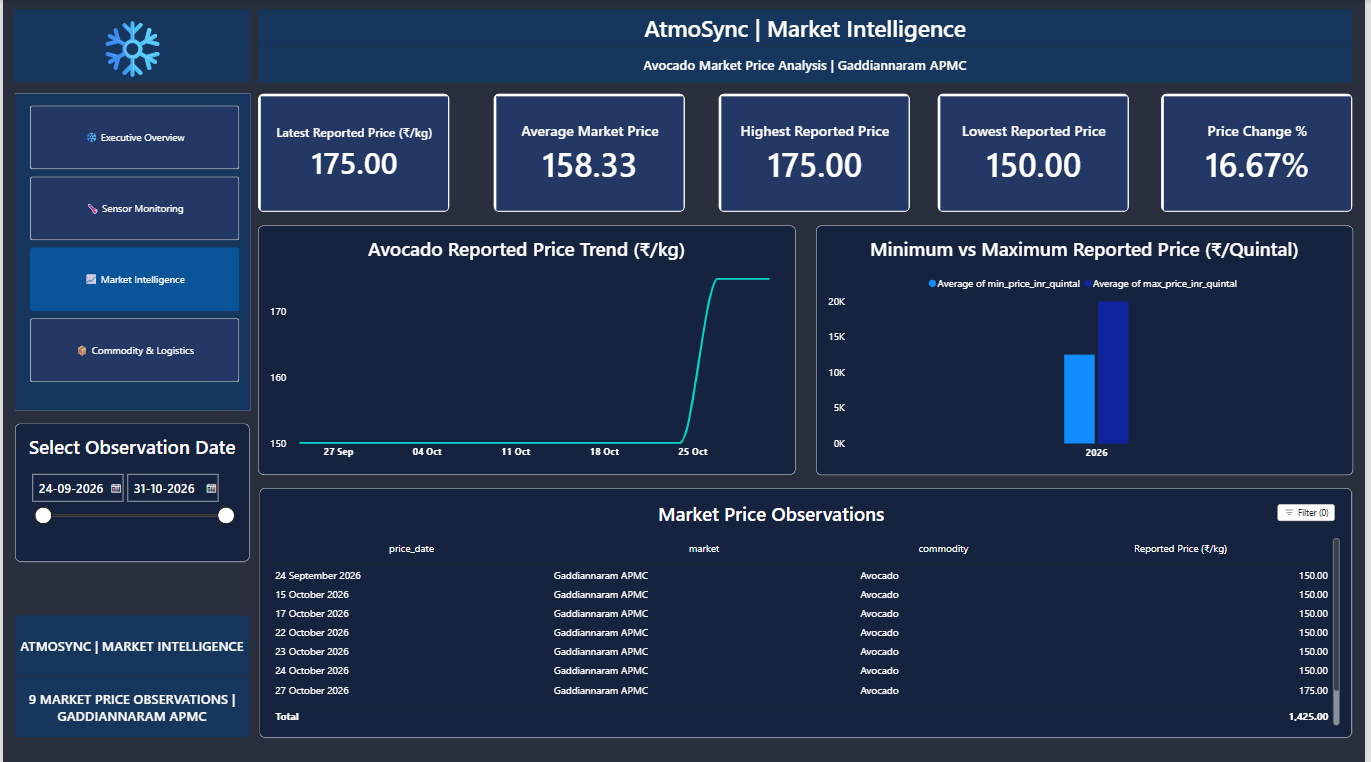

This screenshot's page, from the dashboard's own definition file:
{"tool":"powerbi","page":{"name":"📈\tMarket Intelligence","canvas":[1920,1080],"ordinal":2},"visuals":[{"type":"shape","box":[15,15,332.5,102.5],"z":0},{"type":"shape","box":[360,15,1542.5,50],"z":1000},{"type":"shape","box":[360,65,1542.5,52.5],"z":2000},{"type":"cardVisual","fields":{"Data":["Market_Prices.Latest Market Price"]},"box":[360.5,132.6,270,167.4],"z":3000},{"type":"cardVisual","fields":{"Data":["Market_Prices.Average Market Price"]},"box":[690.7,132.6,270,167],"z":4000},{"type":"cardVisual","fields":{"Data":["Market_Prices.Highest Reported Price"]},"box":[1009.3,132.6,270,167],"z":5000},{"type":"cardVisual","fields":{"Data":["Market_Prices.Lowest Reported Price"]},"box":[1318.6,132.6,270,167],"z":6000},{"type":"cardVisual","fields":{"Data":["Market_Prices.Price Change %"]},"box":[1632.6,132.6,270,167],"z":7000},{"type":"shape","box":[17.5,132.5,332.5,447.5],"z":8000},{"type":"pageNavigator","box":[37.5,150,295,390],"z":9000},{"type":"lineChart","title":"Avocado Reported Price Trend (₹/kg)","fields":{"Category":["Market_Prices.price_date"],"Y":["Avg(Market_Prices.modal_price_inr_kg)"]},"box":[360.5,318.6,758.1,351.2],"z":10000},{"type":"tableEx","title":"Market Price Observations","fields":{"Values":["Market_Prices.price_date","Market_Prices.market","Market_Prices.commodity","Sum(Market_Prices.modal_price_inr_kg)"]},"box":[361.1,689.3,1540.3,351.7],"z":11000},{"type":"slicer","title":"Select Observation Date","fields":{"Values":["Market_Prices.price_date"]},"box":[16.4,597.8,330.6,194.6],"z":13000},{"type":"shape","box":[17.5,870,330,85],"z":14000},{"type":"shape","box":[17.5,955,330,85],"z":15000},{"type":"clusteredColumnChart","title":"Minimum vs Maximum Reported Price (₹/Quintal)","fields":{"Category":["Market_Prices.price_date.Variation.Date Hierarchy.Year","Market_Prices.price_date.Variation.Date Hierarchy.Quarter","Market_Prices.price_date.Variation.Date Hierarchy.Month","Market_Prices.price_date.Variation.Date Hierarchy.Day"],"Y":["Avg(Market_Prices.min_price_inr_quintal)","Avg(Market_Prices.max_price_inr_quintal)"]},"box":[1146.5,318.8,757.3,351.7],"z":15001}]}

Visuals, with their boxes in screenshot pixels (x1, y1, x2, y2), scaled from the page's 1920x1080 canvas onto the 1371x762 screenshot:
shape: 11:11:248:83
shape: 257:11:1359:46
shape: 257:46:1359:83
cardVisual - Market_Prices.Latest Market Price: 257:94:450:212
cardVisual - Market_Prices.Average Market Price: 493:94:686:211
cardVisual - Market_Prices.Highest Reported Price: 721:94:914:211
cardVisual - Market_Prices.Lowest Reported Price: 942:94:1134:211
cardVisual - Market_Prices.Price Change %: 1166:94:1359:211
shape: 12:93:250:409
pageNavigator: 27:106:237:381
"Avocado Reported Price Trend (₹/kg)" lineChart: 257:225:799:473
"Market Price Observations" tableEx: 258:486:1358:734
"Select Observation Date" slicer: 12:422:248:559
shape: 12:614:248:674
shape: 12:674:248:734
"Minimum vs Maximum Reported Price (₹/Quintal)" clusteredColumnChart: 819:225:1359:473
